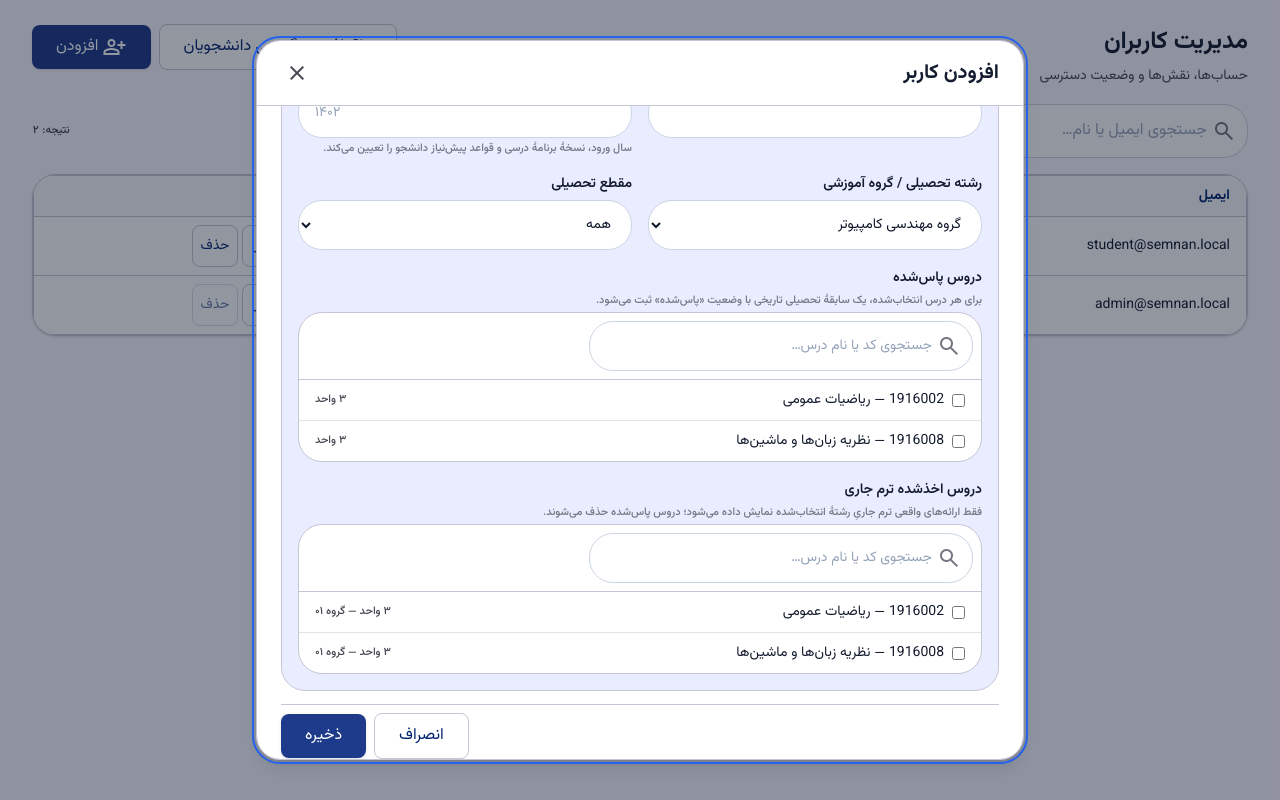
Test: admin users page › removes a course from the current-term options once it is marked passed
The width and height of the screenshot is (1280, 800).
Earlier steps of the test are not shown.
(page scrolled)
Expected: the checkbox labelled "1916002 — ریاضیات عمومی ۳ واحد — گروه ۰۱" is shown, [952, 606, 965, 618]
What coordinates should you click on to do the following:
click the checkbox labelled "1916002 — ریاضیات عمومی ۳ واحد"
I would click on:
 (958, 400)
Its box is [952, 394, 965, 406].
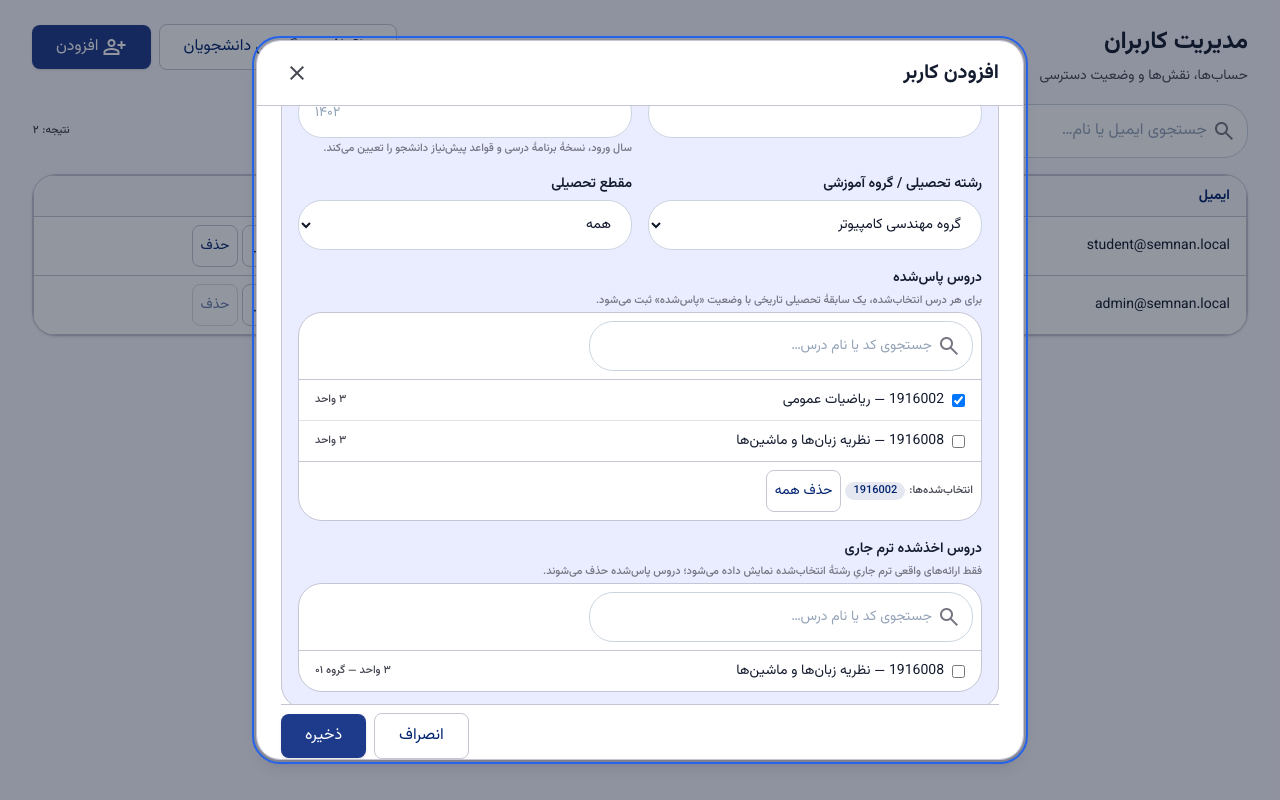
Expected: the checkbox labelled "1916002 — ریاضیات عمومی ۳ واحد" is checked, [952, 394, 965, 406]
